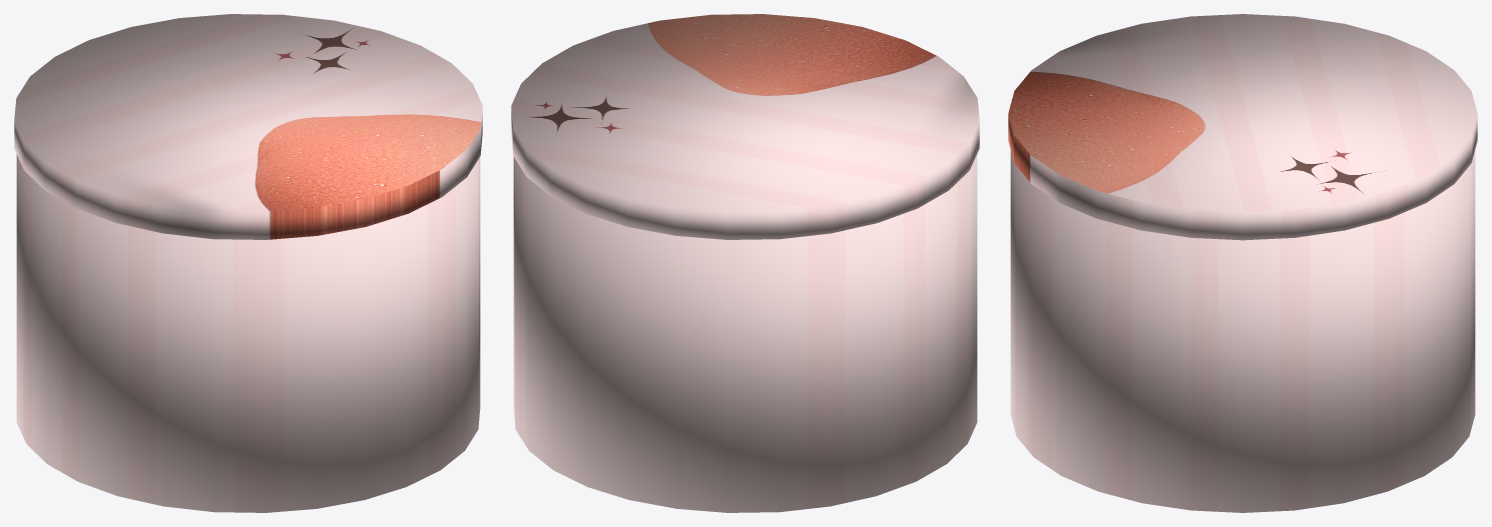
Rendered from prop_pink_lemonade_entrement.glb.
3 views of the same model, side by side, from view 1: azimuth 30°, elevation 25°; view 2: azimuth 150°, elevation 25°; view 3: azimuth 270°, elevation 25° (orthographic).
Parts seen in each view (by area): view 1: prop_pink_lemonade_entrement; view 2: prop_pink_lemonade_entrement; view 3: prop_pink_lemonade_entrement.
Boxes of the visible parts, x1,y1,x2,y2 form: prop_pink_lemonade_entrement: [14, 14, 482, 512]; prop_pink_lemonade_entrement: [511, 14, 979, 512]; prop_pink_lemonade_entrement: [1008, 14, 1477, 512].
Bounding box in the file's own units: 0.1212 × 0.086 × 0.1212.
1 material, 1 textured.
